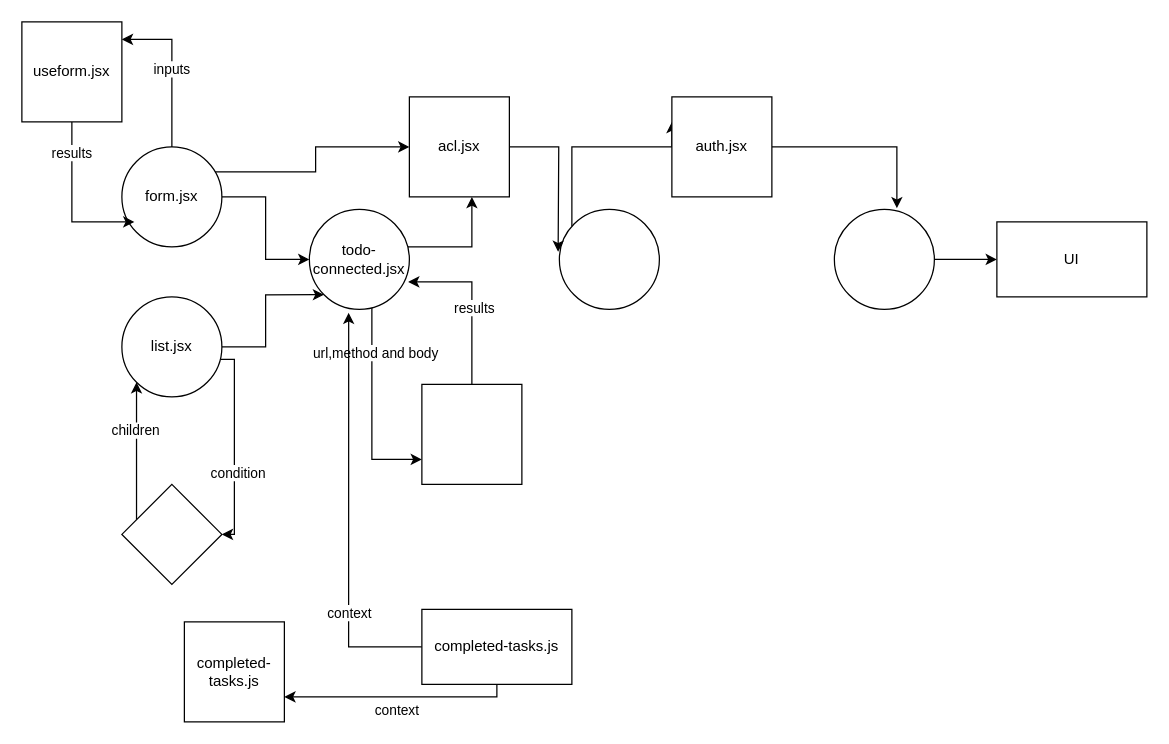
This 1169x744 diagram has some shape labels left out. Each missing label, with the centre of its shape:
app.js: (x=608, y=258)
if.jsx: (x=171, y=533)
index.js: (x=883, y=258)
useajax.jsx: (x=471, y=433)
